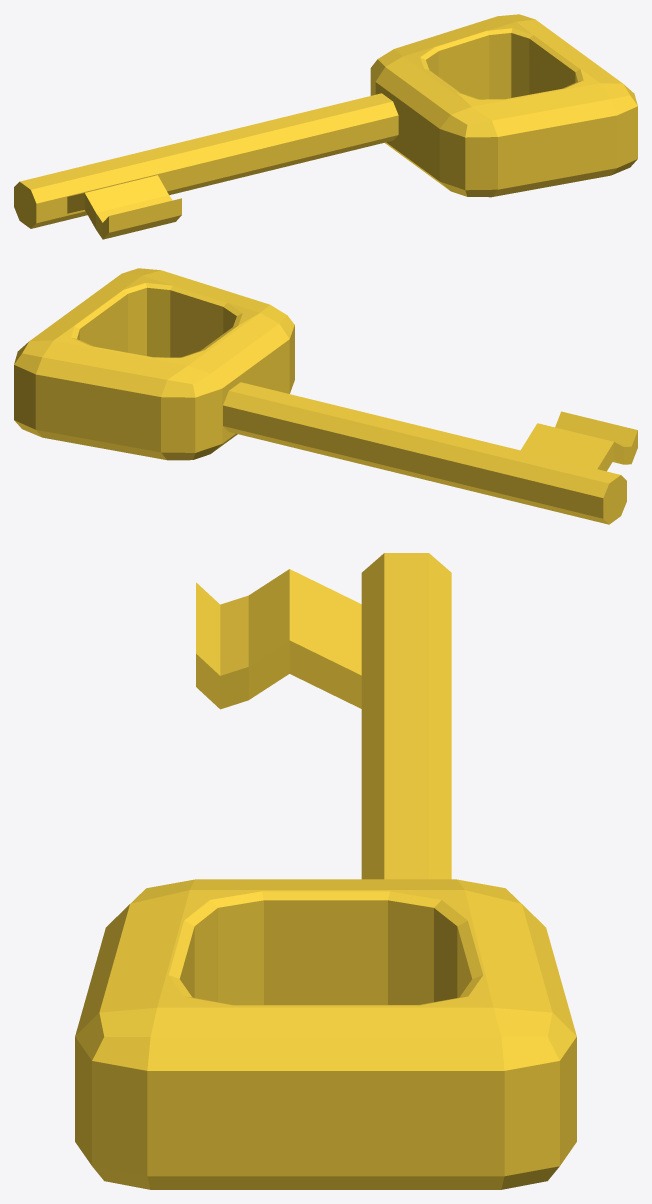
The model's file is Key.fbx.
3 views of the same model, one above another, from view 1: azimuth 30°, elevation 25°; view 2: azimuth 150°, elevation 25°; view 3: azimuth 270°, elevation 25° (orthographic). The views are drawn at different scales.
Parts seen in each view (by area): view 1: Key; view 2: Key; view 3: Key.
Boxes of the visible parts, x1,y1,x2,y2 form: Key: (14, 14, 637, 239); Key: (14, 268, 637, 524); Key: (75, 553, 576, 1189).
Bounding box in the file's own units: 668 × 101 × 266.
